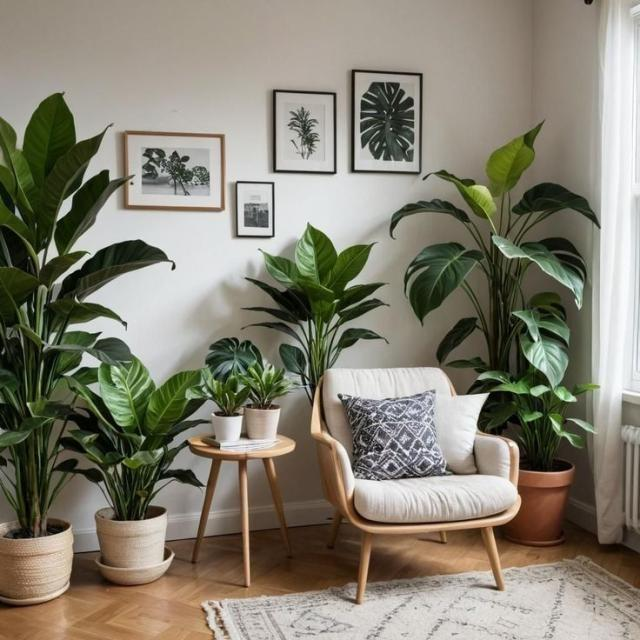obstacle: (308, 366, 522, 604), (186, 431, 296, 587)
